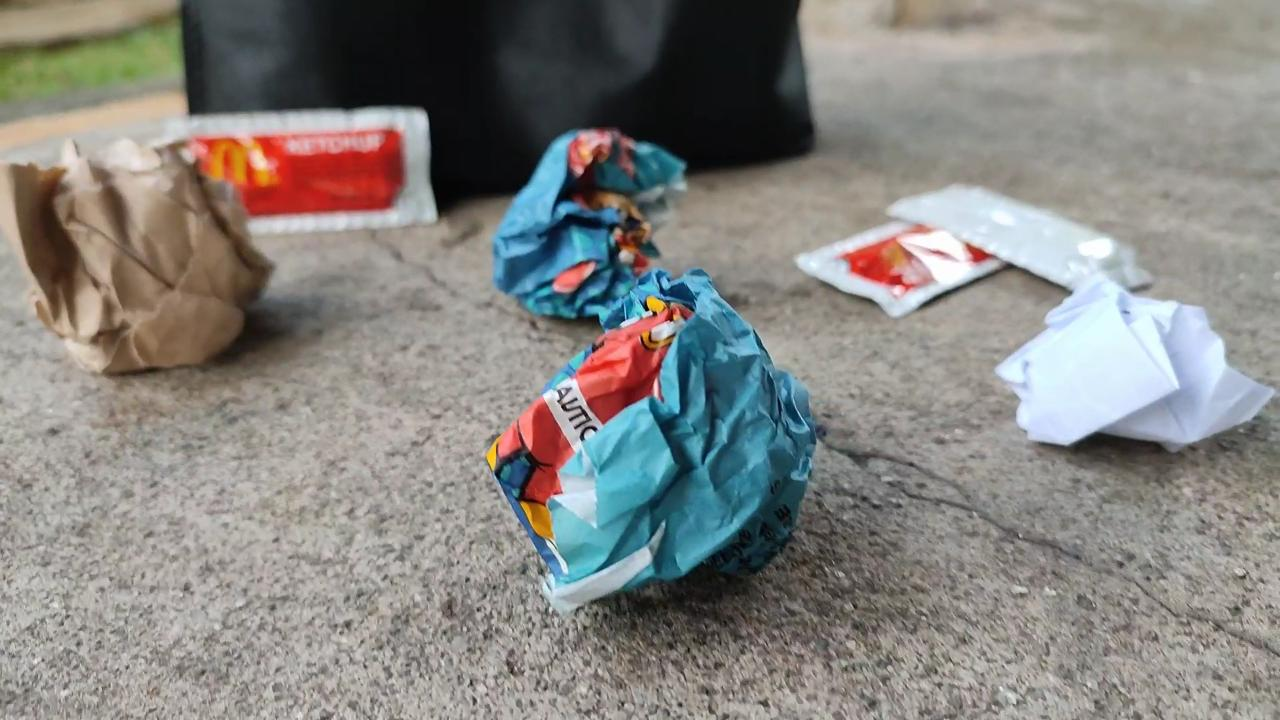Paper: (469, 265, 829, 618), (0, 125, 285, 383), (996, 267, 1280, 490), (493, 104, 677, 338)
